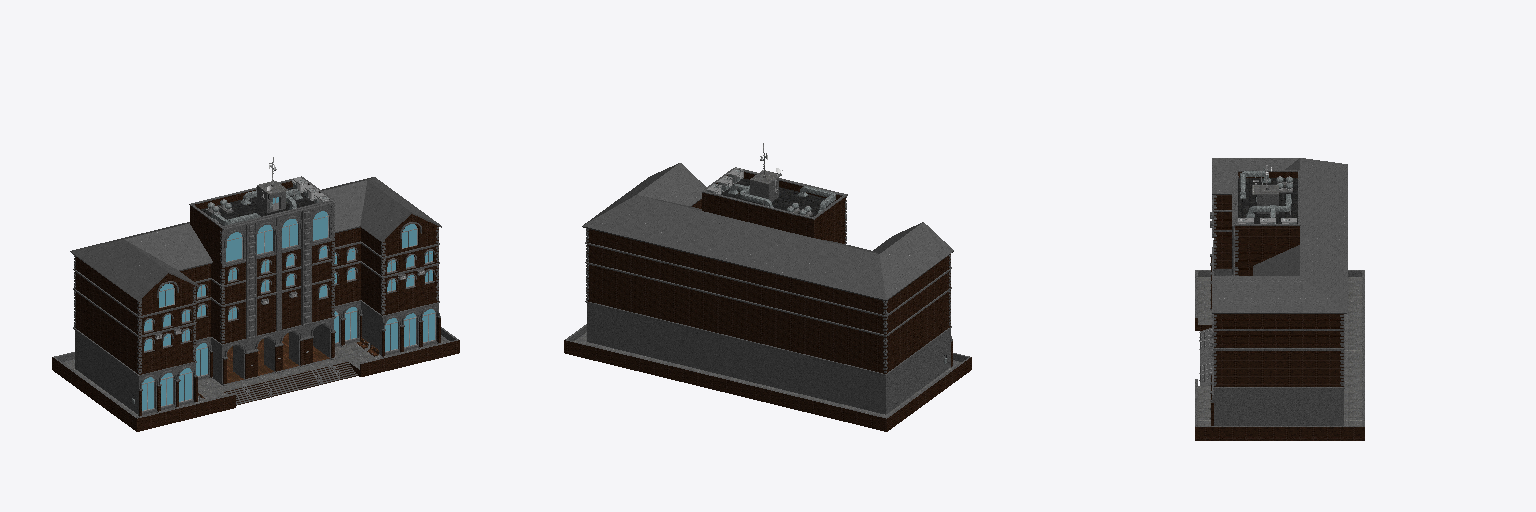
3 renders of one model, left to right at view 1: azimuth 30°, elevation 25°; view 2: azimuth 150°, elevation 25°; view 3: azimuth 270°, elevation 25°, orthographic.
Visible parts, largest first — view 1: Building_Big_DownTown1_Building_Big_DownTown1_Mesh; view 2: Building_Big_DownTown1_Building_Big_DownTown1_Mesh; view 3: Building_Big_DownTown1_Building_Big_DownTown1_Mesh.
Boxes of the visible parts, x1,y1,x2,y2 form: Building_Big_DownTown1_Building_Big_DownTown1_Mesh: [52, 157, 459, 431]; Building_Big_DownTown1_Building_Big_DownTown1_Mesh: [564, 143, 971, 431]; Building_Big_DownTown1_Building_Big_DownTown1_Mesh: [1195, 158, 1364, 440].
Bounding box in the file's own units: 51.73 × 32.44 × 23.47.
Materials: 12 (10 with a texture image).